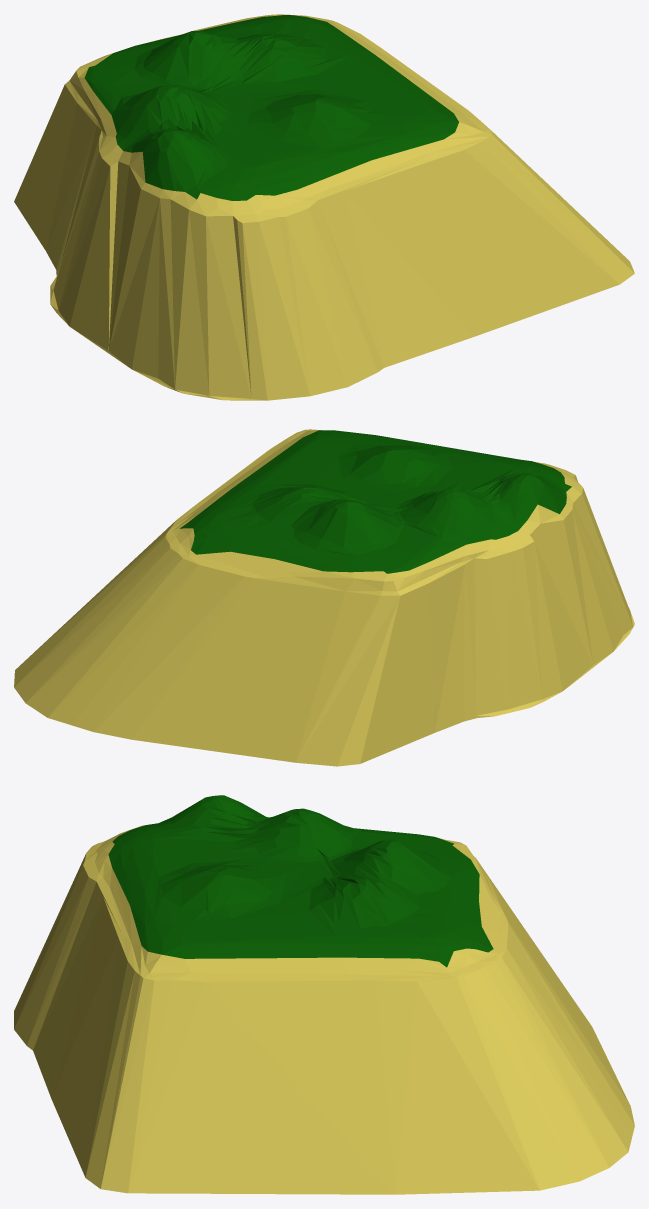
File: Island5.FBX
The picture shows the model from 3 angles, top to bottom: view 1: azimuth 30°, elevation 25°; view 2: azimuth 150°, elevation 25°; view 3: azimuth 270°, elevation 25°; orthographic projection. The views are drawn at different scales.
Visible parts, largest first — view 1: Sphere007; view 2: Sphere007; view 3: Sphere007.
Boxes of the visible parts, x1,y1,x2,y2 form: Sphere007: (14,14,634,400); Sphere007: (14,429,634,766); Sphere007: (14,795,634,1194).
Size of the model in its own units: 1171 by 1296 by 478.
